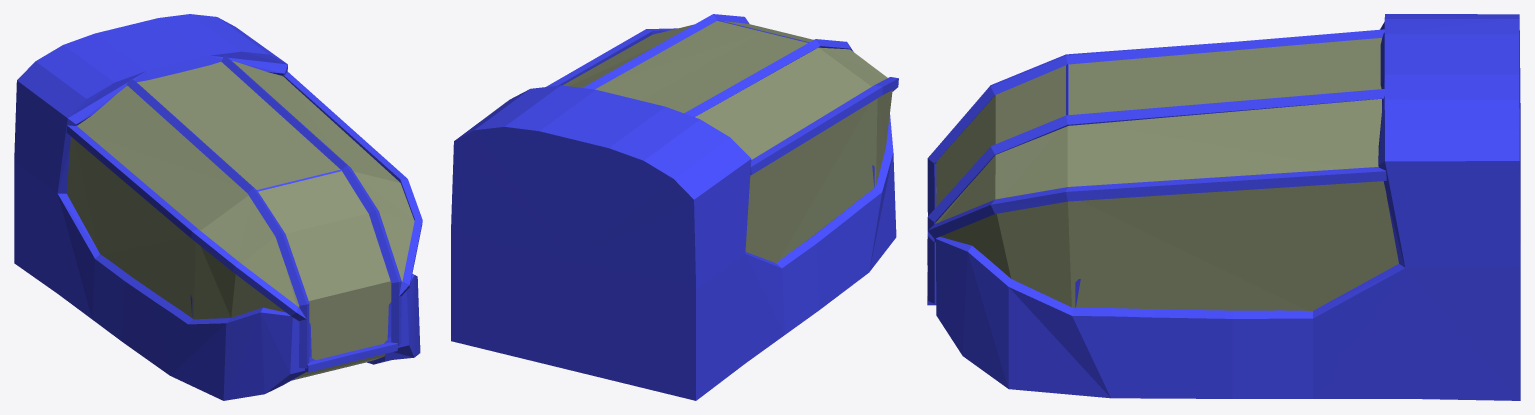
File: cockpit2.glb
3 renders of one model, left to right at view 1: azimuth 30°, elevation 25°; view 2: azimuth 150°, elevation 25°; view 3: azimuth 270°, elevation 25°, orthographic. The views are drawn at different scales.
Parts seen in each view (by area): view 1: Group1.002, OuterShell; view 2: OuterShell, Group1.002; view 3: OuterShell, Group1.002.
Boxes of the visible parts, box(x1,y1,x2,y2) form: Group1.002: box(66, 61, 414, 380); OuterShell: box(14, 14, 422, 400); OuterShell: box(451, 14, 898, 400); Group1.002: box(562, 21, 892, 262); OuterShell: box(927, 14, 1520, 400); Group1.002: box(935, 38, 1398, 310).
Size of the model in its own units: 3.87 by 3.42 by 6.69.
